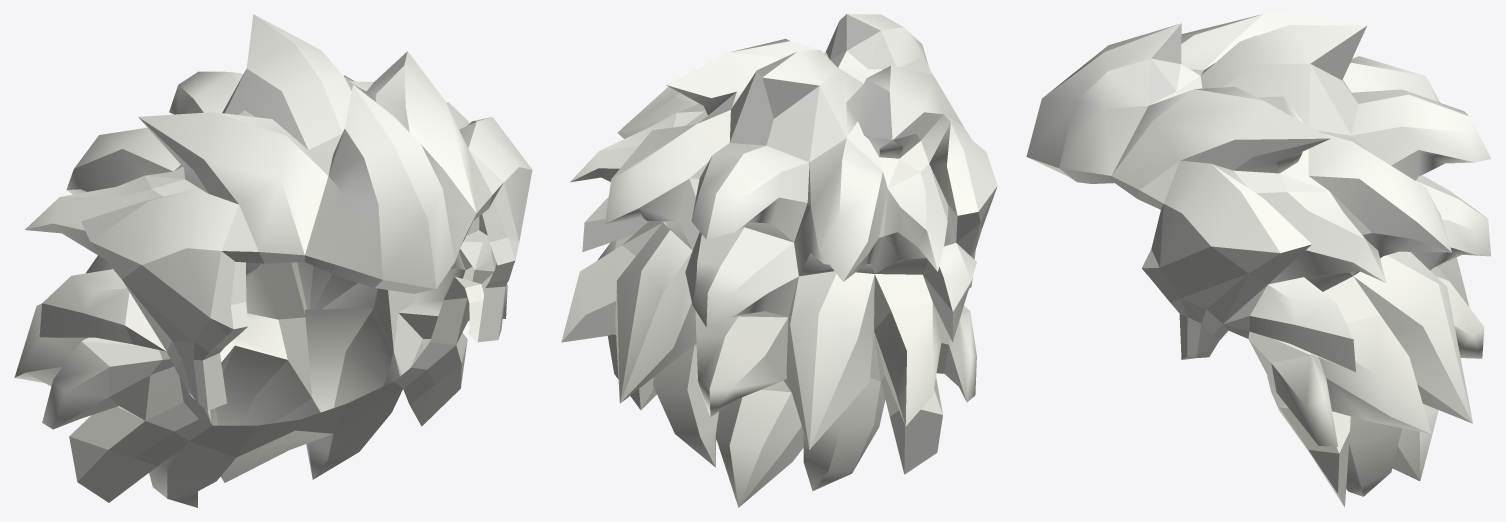
File: Hair_White_20.fbx
3 renders of one model, left to right at view 1: azimuth 30°, elevation 25°; view 2: azimuth 150°, elevation 25°; view 3: azimuth 270°, elevation 25°, orthographic. The views are drawn at different scales.
Visible parts, largest first — view 1: Hair_White_20; view 2: Hair_White_20; view 3: Hair_White_20.
Boxes of the visible parts, bbox=[...] form: Hair_White_20: bbox=[14, 14, 532, 507]; Hair_White_20: bbox=[561, 14, 997, 507]; Hair_White_20: bbox=[1026, 14, 1491, 507].
Size of the model in its own units: 73.92 by 76.65 by 70.5.
